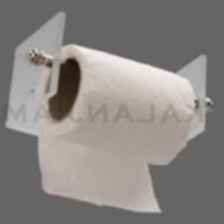tissue: (28, 37, 204, 219)
